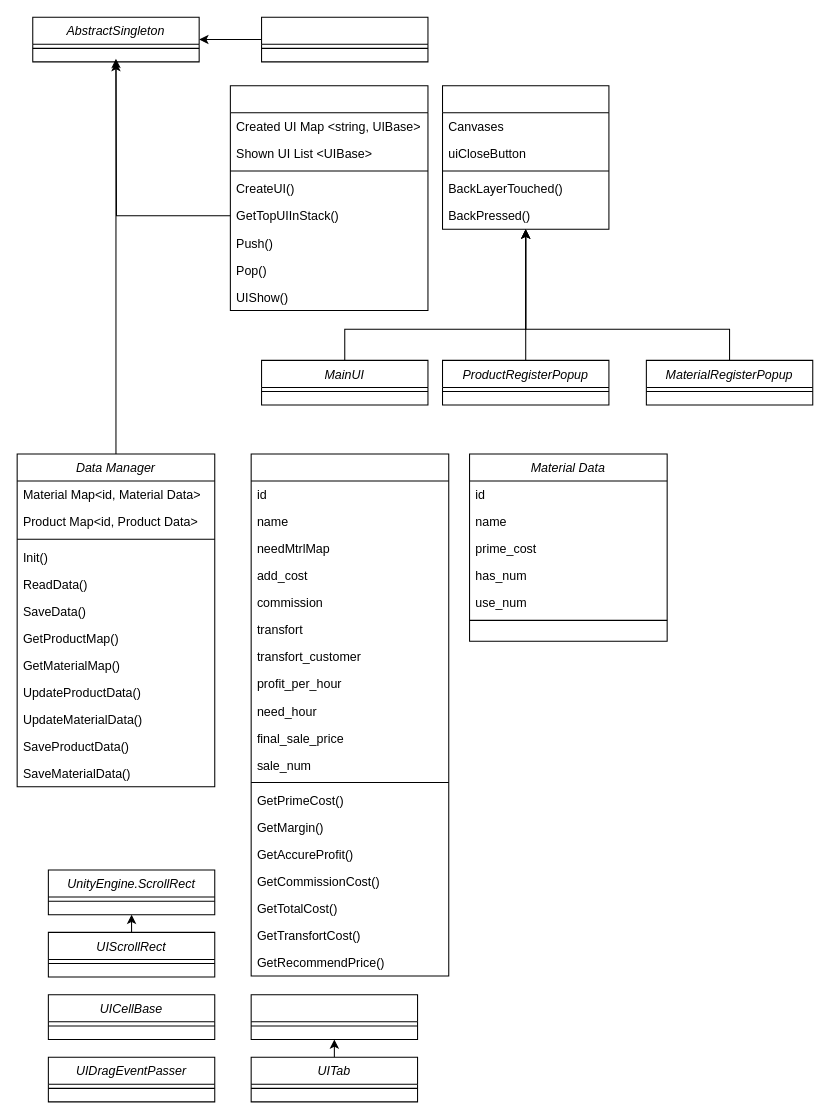
The diagram is 830 pixels wide and 1119 high, and some of its shapes have lost their labels. The box of each missing label's shape, as (x1, y1, x2, y2) in pixels:
MainScene: (261, 16, 428, 62)
Product Data: (250, 453, 449, 976)
UI Base: (441, 85, 609, 229)
UI Navigation Stack: (229, 85, 428, 310)
UnityEngine.Toggle: (250, 994, 418, 1039)
